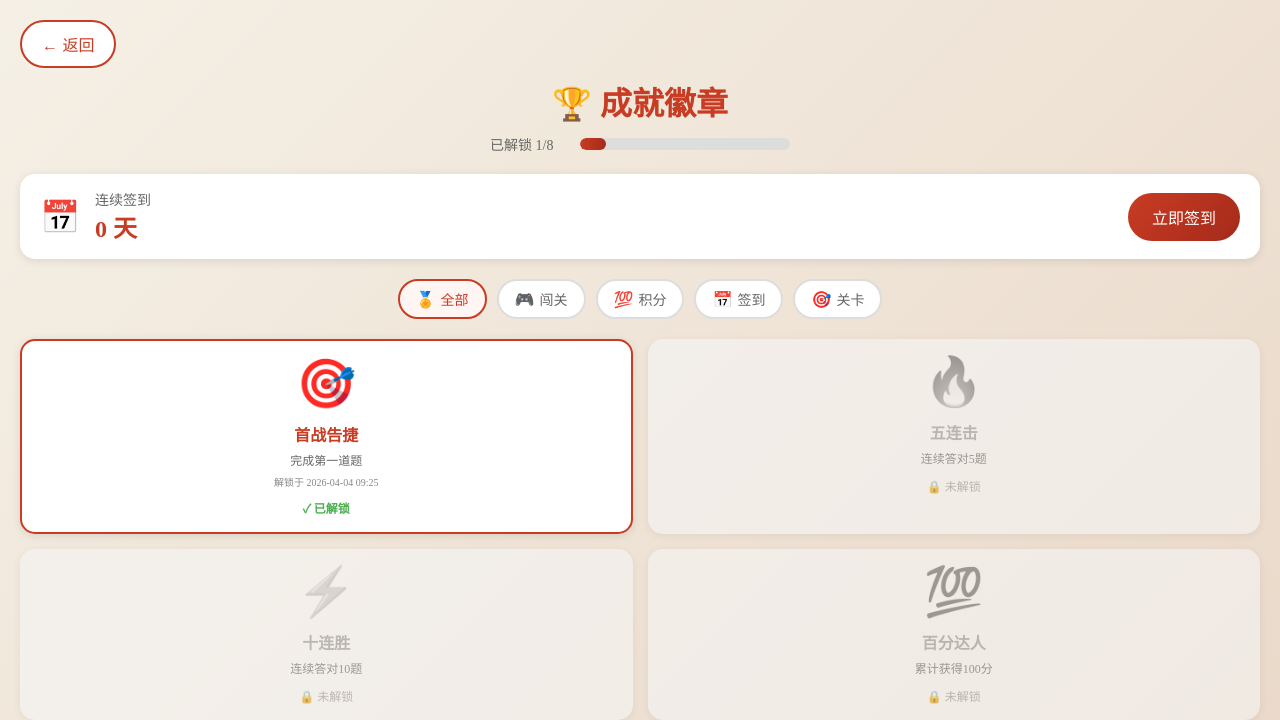
Test: Achievements Component › achievement details modal › should open modal when achievement clicked
Step 1. Click the text "首战告捷" → (326,456), box [274,422,378,489]
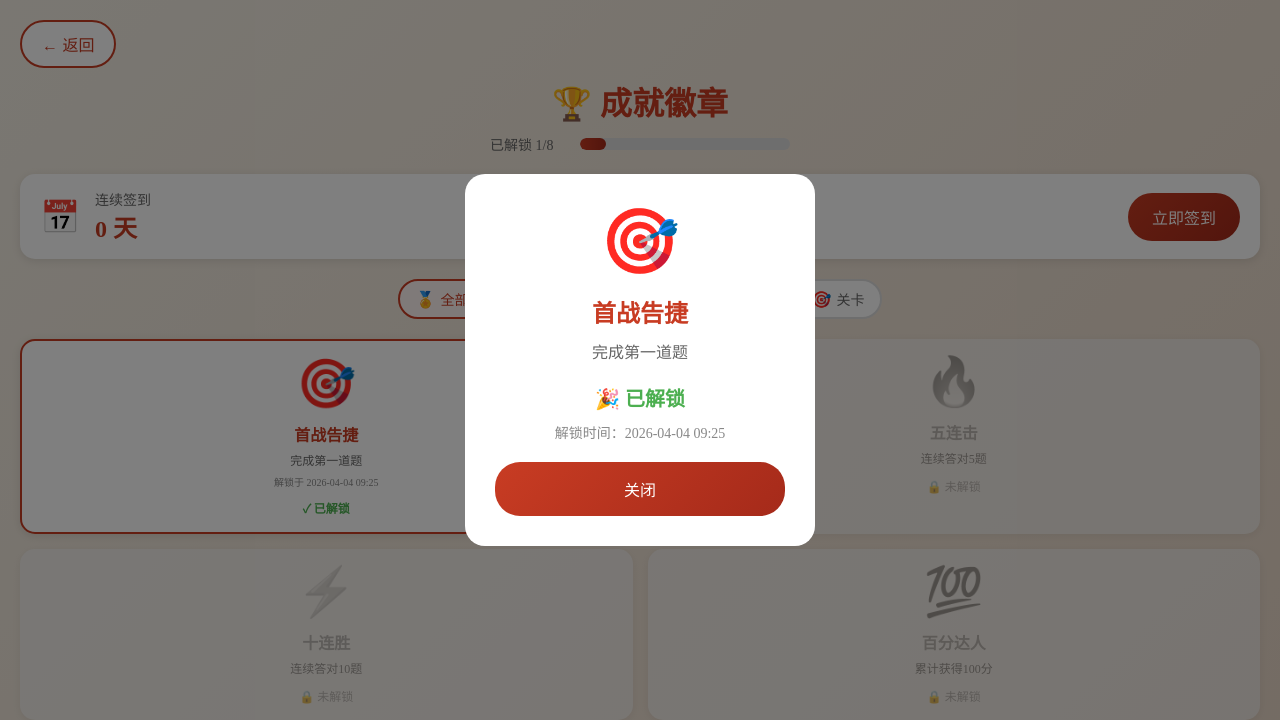
Now the button "关闭" is shown, box [495,462,785,516]
